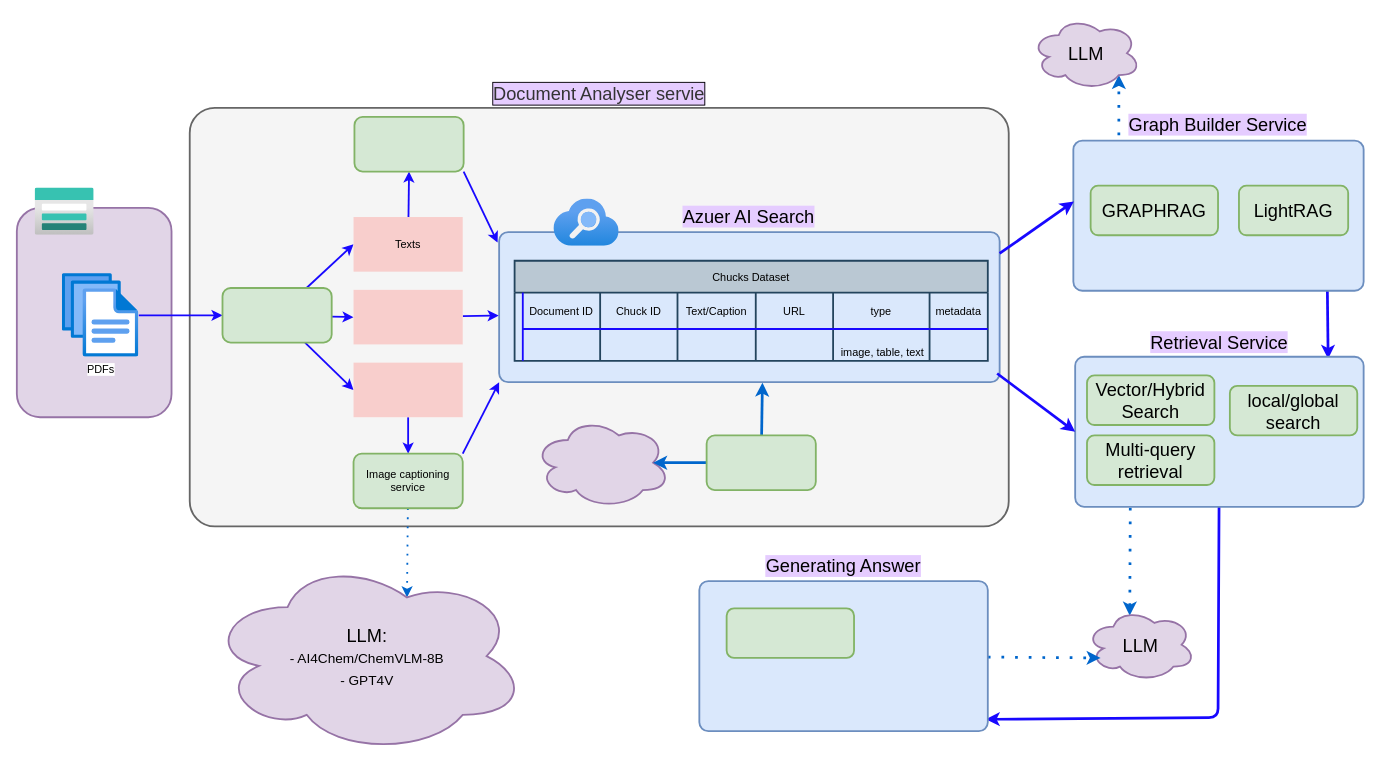
The diagram is 1380 pixels wide and 770 high, and some of its shapes have lost their labels. The shapes that lost their labels are listed below. From the top down, each one's centre as x and y in pixels, then its label:
At (408,144): "Chucking service".
At (64,211): "Storage".
At (276,315): "OCR/parser service".
At (407,316): "Tables".
At (407,389): "Images".
At (601,462): "embedding model".
At (760,462): "Embeding sevice".
At (789,632): "Multi-modal prompting".
